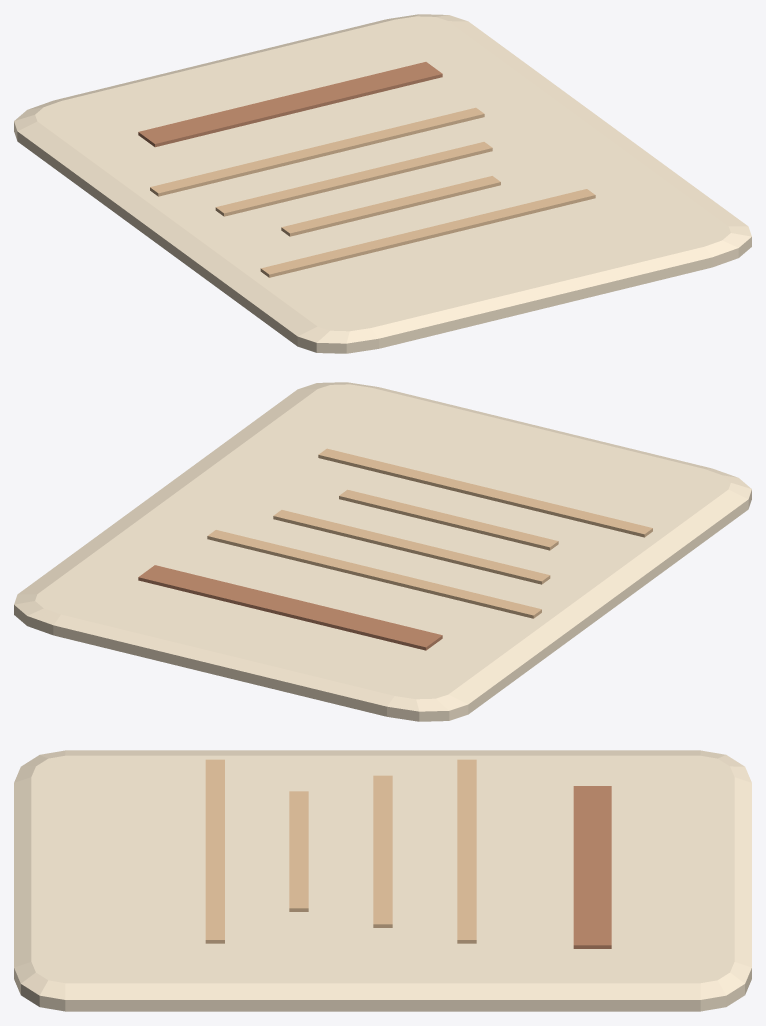
Rendered from ticket_paper.glb.
The picture shows the model from 3 angles, top to bottom: view 1: azimuth 30°, elevation 25°; view 2: azimuth 150°, elevation 25°; view 3: azimuth 270°, elevation 25°; orthographic projection. The views are drawn at different scales.
Visible parts, largest first — view 1: model; view 2: model; view 3: model.
Part boxes in pixels (<box>): model: <box>14,14,751,353</box>; model: <box>14,382,751,721</box>; model: <box>14,750,751,1011</box>.
Size of the model in its own units: 0.4 by 0.02 by 0.5.
